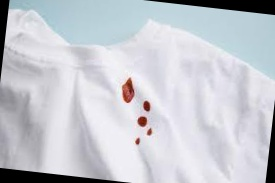blood: (120, 76, 137, 104), (136, 116, 147, 127), (142, 101, 152, 112), (135, 137, 141, 145), (147, 128, 153, 135)
